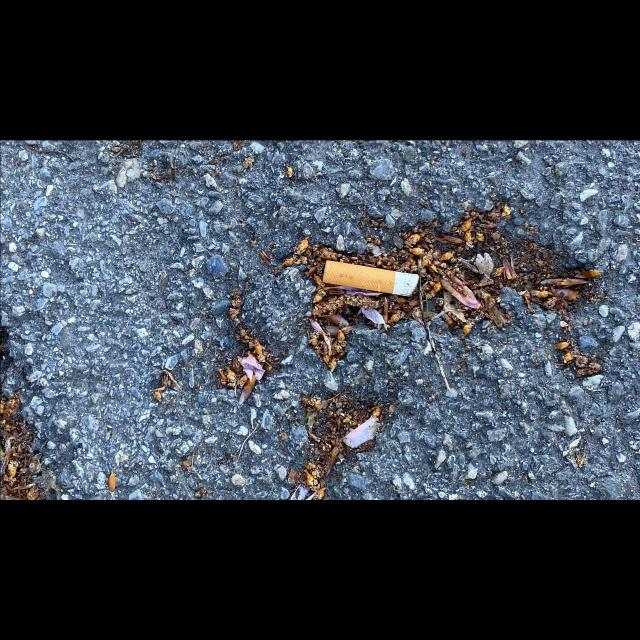cigarette: (322, 259, 419, 297)
